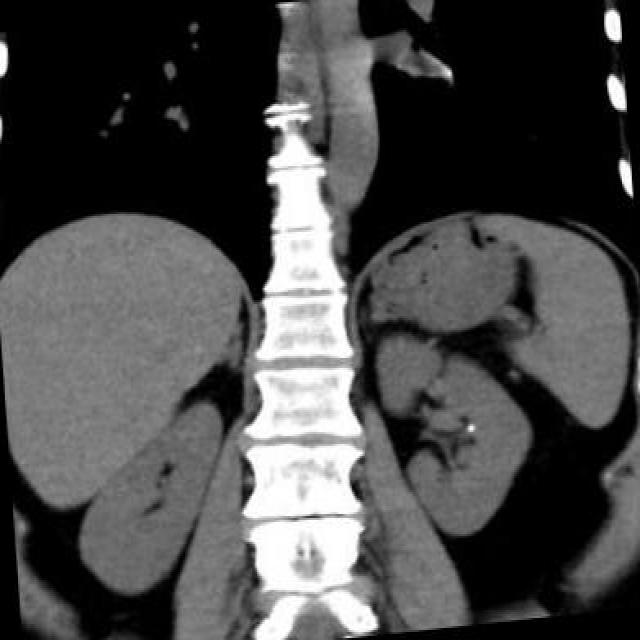Tas_Var: (464, 421, 477, 435)
